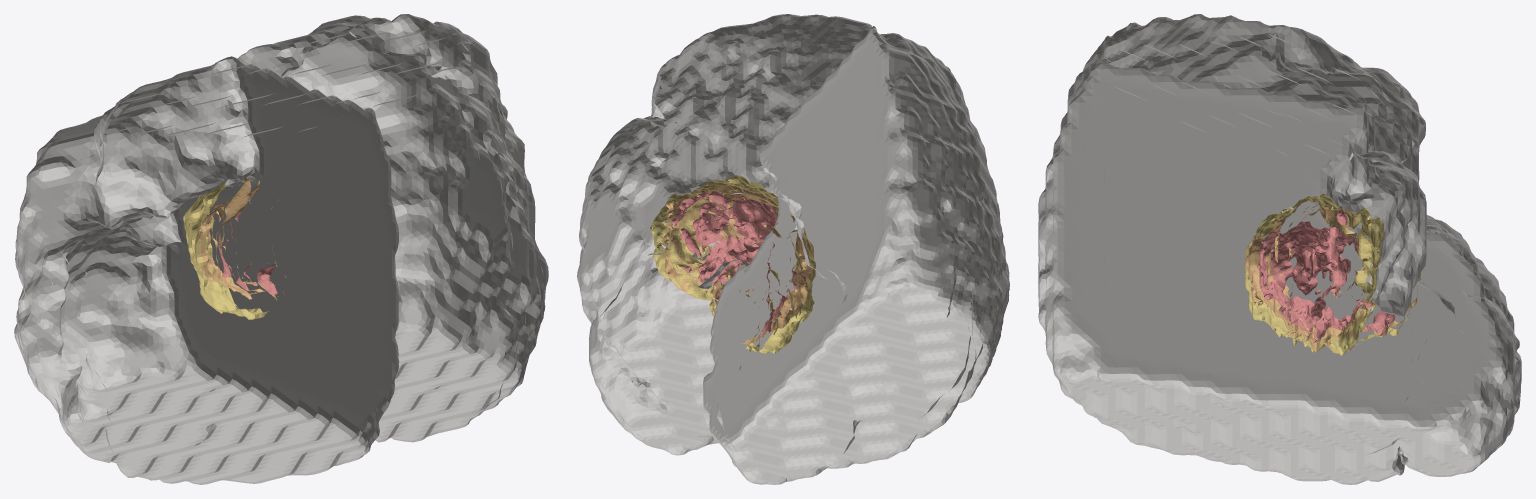
3 views of the same model, side by side, from view 1: azimuth 30°, elevation 25°; view 2: azimuth 150°, elevation 25°; view 3: azimuth 270°, elevation 25° (orthographic). The views are drawn at different scales.
Visible parts, largest first — view 1: brain_left, brain_right, edema, core, enhancing; view 2: brain_left, brain_right, enhancing, edema, core; view 3: brain_right, brain_left, enhancing, edema, core.
Part boxes in pixels (bbox=[...]): brain_left: bbox=[14, 56, 399, 484]; brain_right: bbox=[237, 14, 548, 442]; edema: bbox=[183, 178, 286, 319]; core: bbox=[194, 179, 277, 299]; enhancing: bbox=[218, 196, 278, 294]; brain_left: bbox=[703, 26, 1009, 484]; brain_right: bbox=[577, 14, 872, 455]; enhancing: bbox=[667, 190, 806, 336]; edema: bbox=[650, 175, 815, 353]; core: bbox=[662, 180, 815, 343]; brain_right: bbox=[1038, 61, 1521, 484]; brain_left: bbox=[1038, 14, 1514, 332]; enhancing: bbox=[1257, 209, 1394, 342]; edema: bbox=[1245, 193, 1420, 355]; core: bbox=[1245, 196, 1419, 353].
Bounding box in the file's own units: 132 × 116 × 132.
